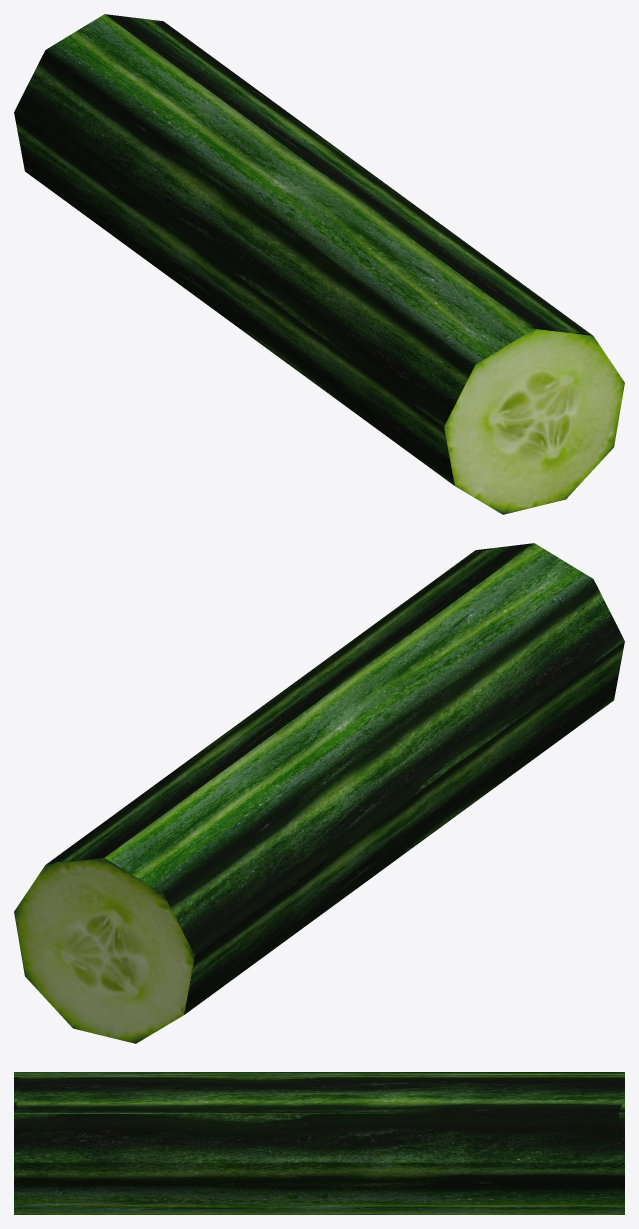
Rendered from gehelekomkommer.obj.
3 renders of one model, top to bottom at view 1: azimuth 30°, elevation 25°; view 2: azimuth 150°, elevation 25°; view 3: azimuth 270°, elevation 25°, orthographic. The views are drawn at different scales.
Parts seen in each view (by area): view 1: Cylinder.001_Cylinder.002; view 2: Cylinder.001_Cylinder.002; view 3: Cylinder.001_Cylinder.002.
Part boxes in pixels (<box>): Cylinder.001_Cylinder.002: <box>14,14,624,514</box>; Cylinder.001_Cylinder.002: <box>14,543,624,1043</box>; Cylinder.001_Cylinder.002: <box>14,1072,624,1214</box>.
Size of the model in its own units: 0.2675 by 0.2519 by 1.1.
Materials: 2 (2 with a texture image).
